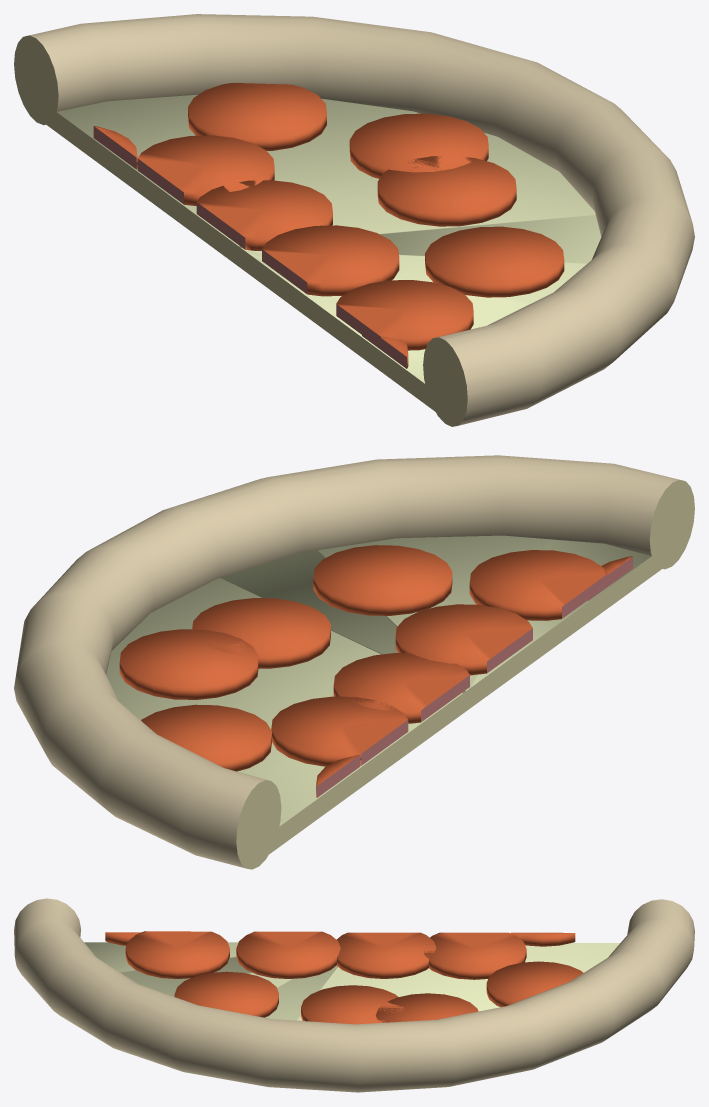
Rendered from pizza_half2.fbx.
3 views of the same model, one above another, from view 1: azimuth 30°, elevation 25°; view 2: azimuth 150°, elevation 25°; view 3: azimuth 270°, elevation 25° (orthographic). The views are drawn at different scales.
Parts seen in each view (by area): view 1: polySurface28; view 2: polySurface28; view 3: polySurface28.
Boxes of the visible parts, <box> form: polySurface28: <box>14,14,694,426</box>; polySurface28: <box>14,455,694,869</box>; polySurface28: <box>14,898,694,1092</box>.
Bounding box in the file's own units: 13.38 × 2.72 × 26.86.
